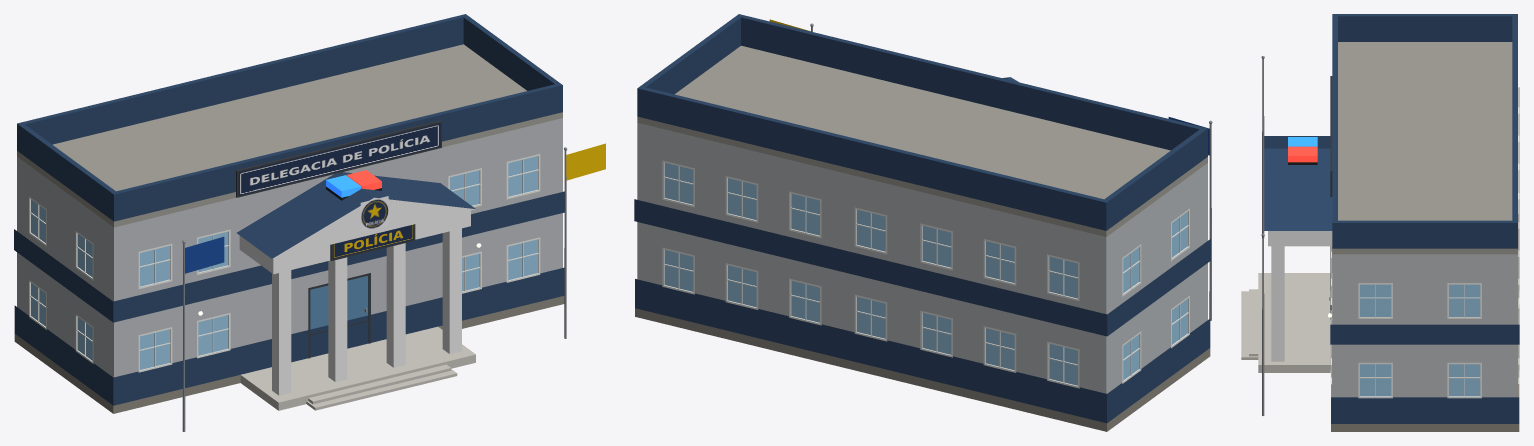
The model's file is delegacia.glb.
The picture shows the model from 3 angles, left to right: view 1: azimuth 30°, elevation 25°; view 2: azimuth 150°, elevation 25°; view 3: azimuth 270°, elevation 25°; orthographic projection. The views are drawn at different scales.
Visible parts, largest first — view 1: Telhado, Paredes, Detalhes, VidroLuz, Letreiro, Molduras, Vidro; view 2: Telhado, Paredes, Detalhes, VidroLuz, Molduras, Vidro; view 3: Telhado, Paredes, Detalhes, Vidro, Molduras.
Part boxes in pixels (<box>): Telhado: <box>17,14,562,258</box>; Paredes: <box>14,118,564,413</box>; Detalhes: <box>14,120,605,431</box>; VidroLuz: <box>31,199,479,369</box>; Letreiro: <box>238,123,440,258</box>; Molduras: <box>29,154,540,372</box>; Vidro: <box>77,156,537,361</box>; Telhado: <box>637,14,1207,236</box>; Paredes: <box>635,122,1210,431</box>; Detalhes: <box>634,19,1212,423</box>; VidroLuz: <box>664,163,1187,380</box>; Molduras: <box>662,160,1189,388</box>; Vidro: <box>664,178,1187,385</box>; Telhado: <box>1264,14,1517,254</box>; Paredes: <box>1268,214,1519,431</box>; Detalhes: <box>1241,56,1519,423</box>; Vidro: <box>1360,284,1480,396</box>; Molduras: <box>1330,87,1519,398</box>.
Bounding box in the file's own units: 20.38 × 9.3 × 11.27.
21 materials, 3 textured.
